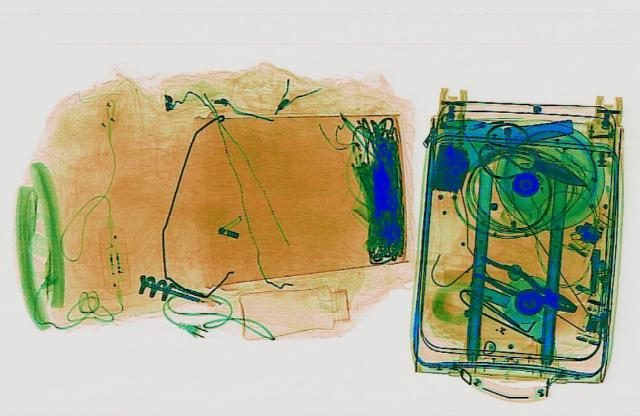Pliers: (460, 251, 586, 318)
Scissors: (453, 118, 611, 205)
